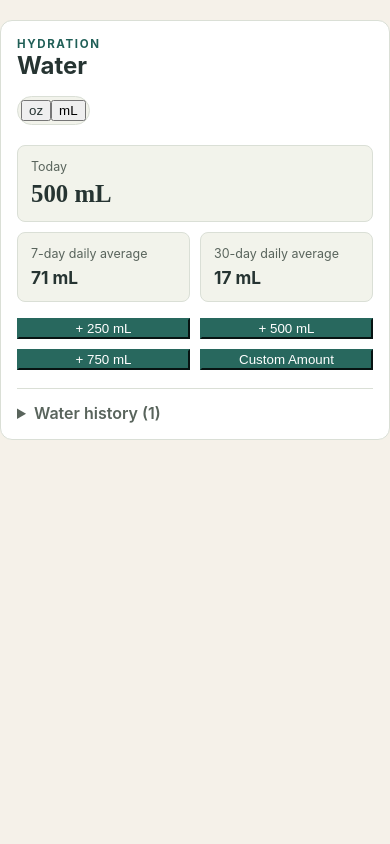
Test: confirms and deletes a water entry
The width and height of the screenshot is (390, 844).
Step 1. Click the heading "Water history (1)" → (97, 413), box x1=34 y1=403 x2=161 y2=423
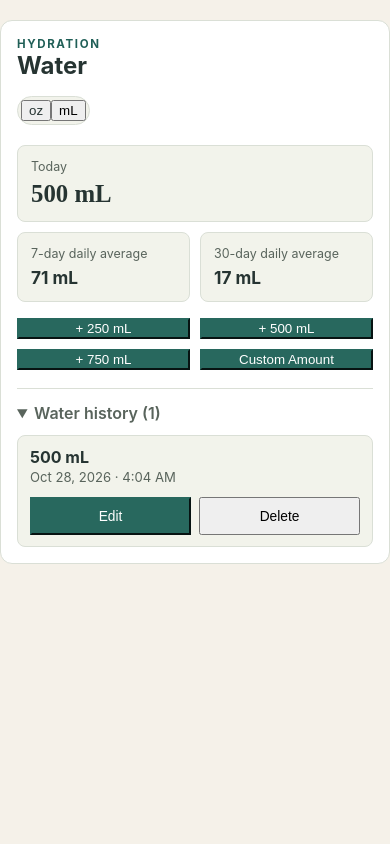
Step 2. Click the button with aria-label "Delete 500 mL water entry" → (280, 516), box x1=199 y1=497 x2=360 y2=535
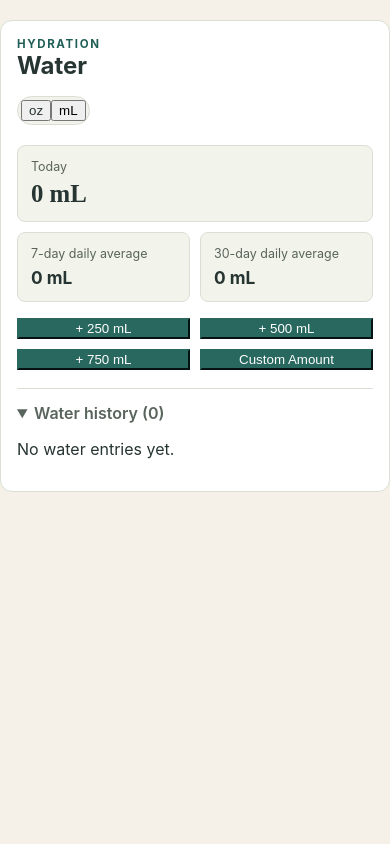
Check: the text "Today" shows "0 mL", box x1=31 y1=180 x2=87 y2=207
Check: the heading "Water history (0)" is shown, box x1=34 y1=403 x2=164 y2=423
